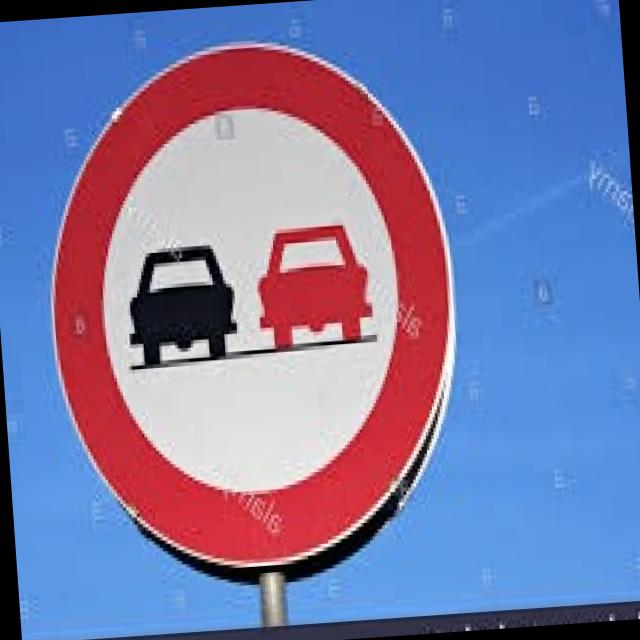no_passing: (30, 17, 479, 586)
